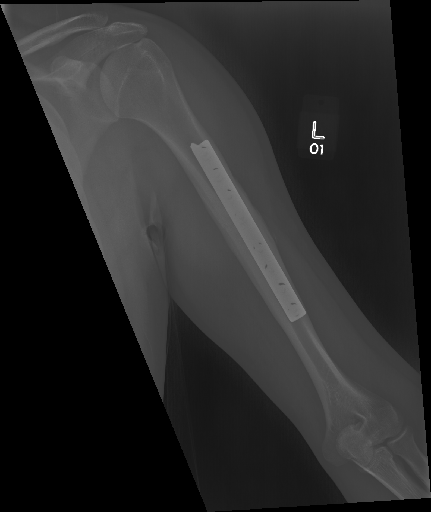implant: (192, 135, 309, 328)
